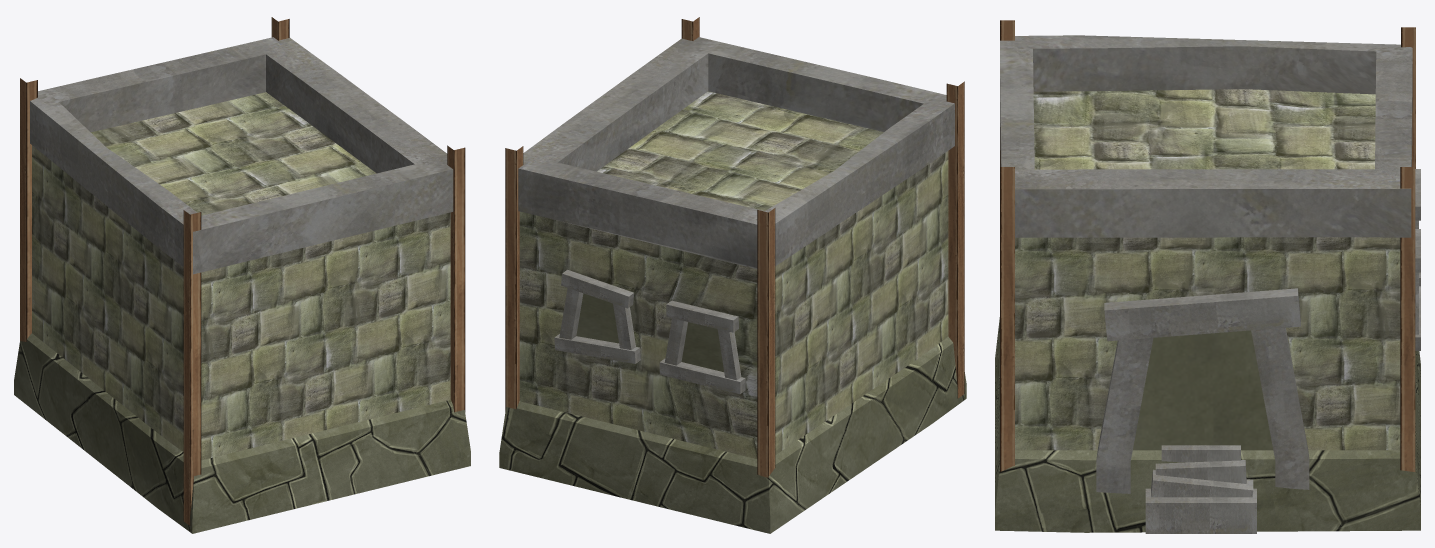
Rendered from ruined-house.glb.
3 renders of one model, left to right at view 1: azimuth 30°, elevation 25°; view 2: azimuth 150°, elevation 25°; view 3: azimuth 270°, elevation 25°, orthographic. The views are drawn at different scales.
Parts seen in each view (by area): view 1: stktex_generic_stoneWallA.png__, stktex_generic_concreteA.png__, stktex_generic_aztekWall_a.png__, stktex_generic_WoodA.png__; view 2: stktex_generic_stoneWallA.png__, stktex_generic_concreteA.png__, stktex_generic_aztekWall_a.png__, stktex_generic_WoodA.png__; view 3: stktex_generic_concreteA.png__, stktex_generic_stoneWallA.png__, stktex_generic_aztekWall_a.png__, stktex_generic_WoodA.png__.
Part boxes in pixels (x1,y1,x2,y2): stktex_generic_stoneWallA.png__: (32,92,450,460); stktex_generic_concreteA.png__: (30,37,453,274); stktex_generic_aztekWall_a.png__: (14,333,470,533); stktex_generic_WoodA.png__: (20,17,465,525); stktex_generic_stoneWallA.png__: (519,91,948,458); stktex_generic_concreteA.png__: (518,37,954,394); stktex_generic_aztekWall_a.png__: (499,293,966,533); stktex_generic_WoodA.png__: (505,17,964,477); stktex_generic_concreteA.png__: (1000,35,1420,533); stktex_generic_stoneWallA.png__: (1015,89,1400,450); stktex_generic_aztekWall_a.png__: (995,317,1420,532); stktex_generic_WoodA.png__: (1000,20,1415,471).
Bounding box in the file's own units: 6.04 × 5.98 × 6.38.
4 materials, 4 textured.
